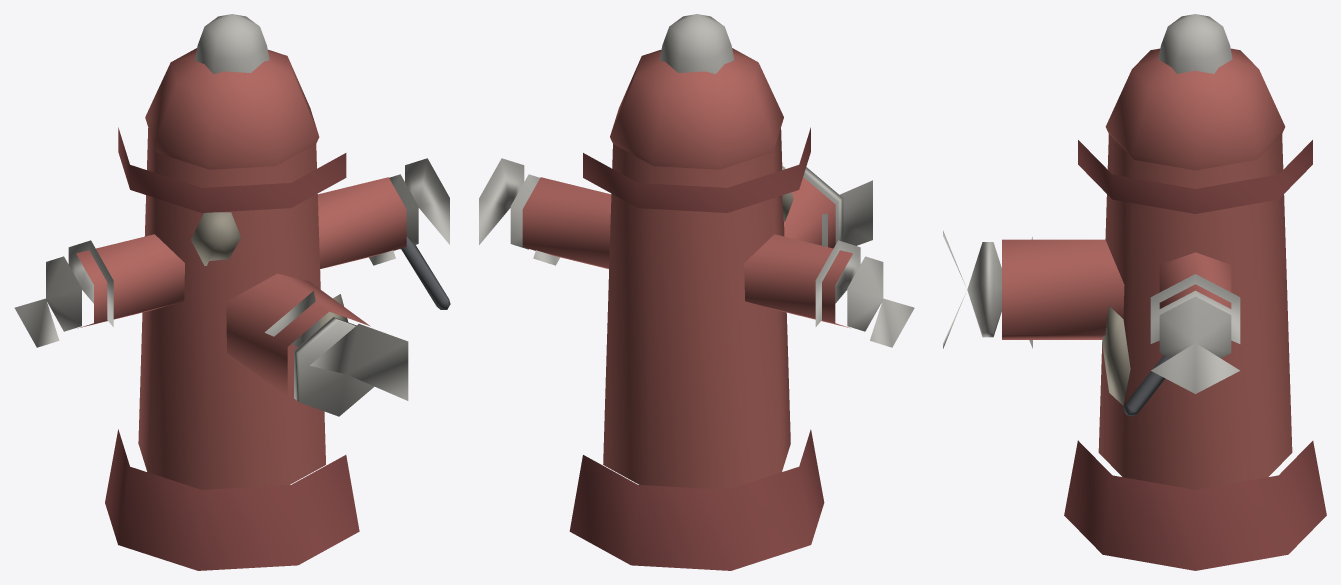
Rendered from hidrante.glb.
3 views of the same model, side by side, from view 1: azimuth 30°, elevation 25°; view 2: azimuth 150°, elevation 25°; view 3: azimuth 270°, elevation 25° (orthographic).
Visible parts, largest first — view 1: hidrante; view 2: hidrante; view 3: hidrante.
Part boxes in pixels (x1,y1,x2,y2): hidrante: (14, 14, 450, 570); hidrante: (479, 14, 914, 570); hidrante: (943, 14, 1326, 570).
Bounding box in the file's own units: 0.65 × 0.8 × 0.555.
